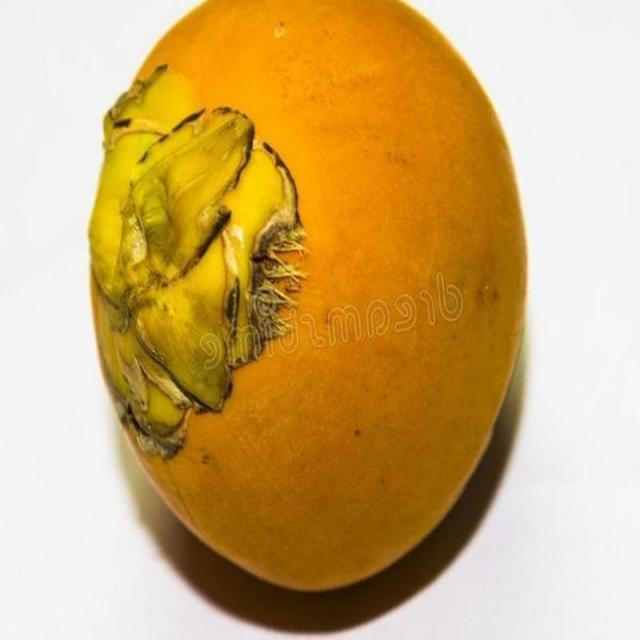good: (87, 0, 529, 597)
